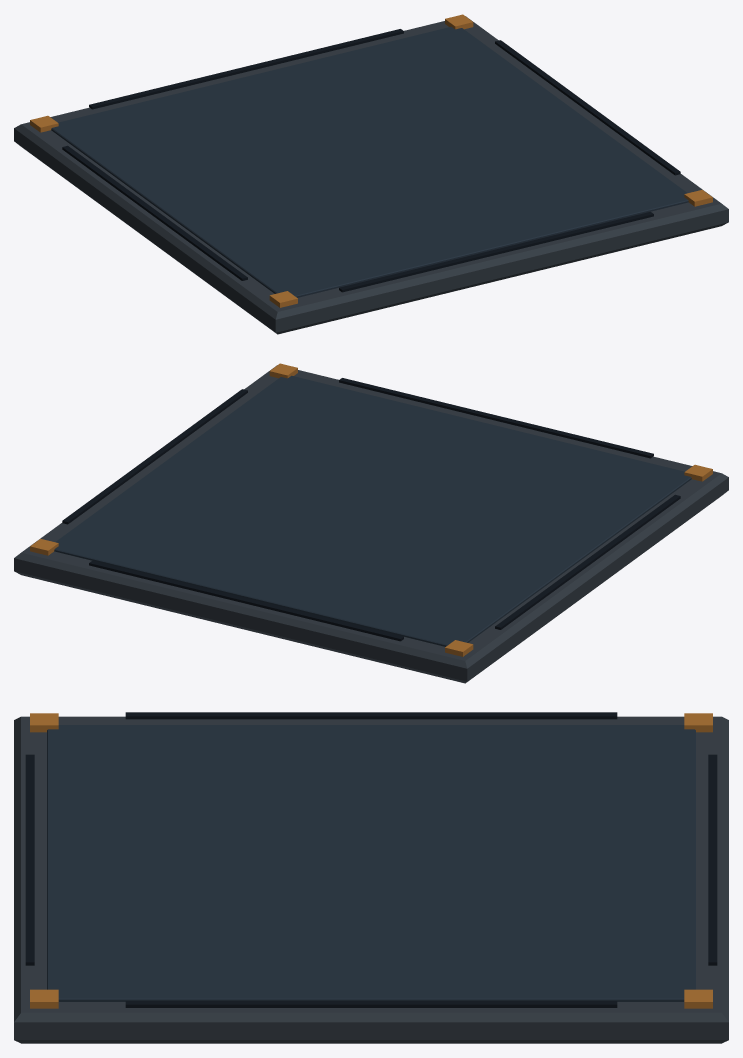
File: armature_floor.obj
3 views of the same model, one above another, from view 1: azimuth 30°, elevation 25°; view 2: azimuth 150°, elevation 25°; view 3: azimuth 270°, elevation 25° (orthographic). The views are drawn at different scales.
Visible parts, largest first — view 1: floor_armature_tile; view 2: floor_armature_tile; view 3: floor_armature_tile.
Boxes of the visible parts, box(x1,y1,x2,y2) form: floor_armature_tile: box(14, 14, 728, 334); floor_armature_tile: box(14, 363, 728, 683); floor_armature_tile: box(14, 712, 728, 1043).
Size of the model in its own units: 4 by 0.234 by 4.
